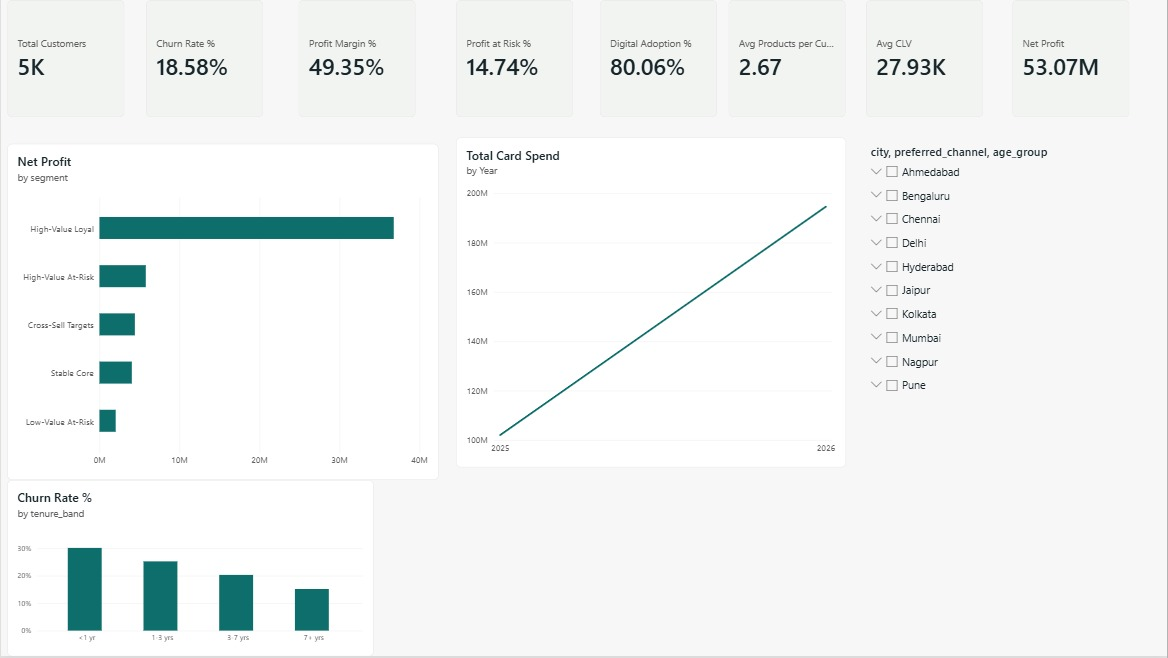

What the dashboard file says about the page in this screenshot:
{"tool":"powerbi","page":{"name":"Executive overview","canvas":[1920,1080],"ordinal":0},"visuals":[{"type":"cardVisual","fields":{"Data":["_Measures.Total Customers"]},"box":[10.3,0,193.5,193.5],"z":0},{"type":"cardVisual","fields":{"Data":["_Measures.Churn Rate %"]},"box":[238.8,0,193.5,193.5],"z":1000},{"type":"cardVisual","fields":{"Data":["_Measures.Net Profit"]},"box":[1665.2,0,193.5,193.5],"z":2000},{"type":"cardVisual","fields":{"Data":["_Measures.Avg CLV"]},"box":[1424.4,0,193.5,193.5],"z":3000},{"type":"cardVisual","fields":{"Data":["_Measures.Profit at Risk %"]},"box":[749.2,0,193.5,193.5],"z":4000},{"type":"cardVisual","fields":{"Data":["_Measures.Avg Products per Customer"]},"box":[1197.9,0,193.5,193.5],"z":5000},{"type":"cardVisual","fields":{"Data":["_Measures.Digital Adoption %"]},"box":[985.9,0,193.5,193.5],"z":6000},{"type":"cardVisual","fields":{"Data":["_Measures.Profit Margin %"]},"box":[489.9,0,193.5,193.5],"z":7000},{"type":"clusteredBarChart","fields":{"Category":["dim_customer.segment"],"Y":["_Measures.Net Profit"]},"box":[10.3,236.7,710.1,553.7],"z":8000},{"type":"clusteredColumnChart","fields":{"Category":["dim_customer.tenure_band"],"Y":["_Measures.Churn Rate %"]},"box":[10.3,790.4,603.1,290.2],"z":9000},{"type":"lineChart","fields":{"Category":["dim_month.month_start.Variation.Date Hierarchy.Year","dim_month.month_start.Variation.Date Hierarchy.Quarter","dim_month.month_start.Variation.Date Hierarchy.Month","dim_month.month_start.Variation.Date Hierarchy.Day"],"Y":["_Measures.Total Card Spend"]},"box":[749.2,226.4,642.2,543.4],"z":10000},{"type":"slicer","fields":{"Values":["dim_customer.city","dim_customer.preferred_channel","dim_customer.age_group"]},"box":[1424.4,236.7,479.6,448.7],"z":11000}]}

Visuals, with their boxes in screenshot pixels (x1, y1, x2, y2), scaled from the page's 1920x1080 canvas onto the 1168x658 screenshot:
cardVisual - _Measures.Total Customers: [6,0,124,118]
cardVisual - _Measures.Churn Rate %: [145,0,263,118]
cardVisual - _Measures.Net Profit: [1013,0,1131,118]
cardVisual - _Measures.Avg CLV: [867,0,984,118]
cardVisual - _Measures.Profit at Risk %: [456,0,573,118]
cardVisual - _Measures.Avg Products per Customer: [729,0,846,118]
cardVisual - _Measures.Digital Adoption %: [600,0,717,118]
cardVisual - _Measures.Profit Margin %: [298,0,416,118]
clusteredBarChart - dim_customer.segment x _Measures.Net Profit: [6,144,438,482]
clusteredColumnChart - dim_customer.tenure_band x _Measures.Churn Rate %: [6,482,373,657]
lineChart - dim_month.month_start.Variation.Date Hierarchy.Year x dim_month.month_start.Variation.Date Hierarchy.Quarter: [456,138,846,469]
slicer - dim_customer.city x dim_customer.preferred_channel: [867,144,1158,418]
